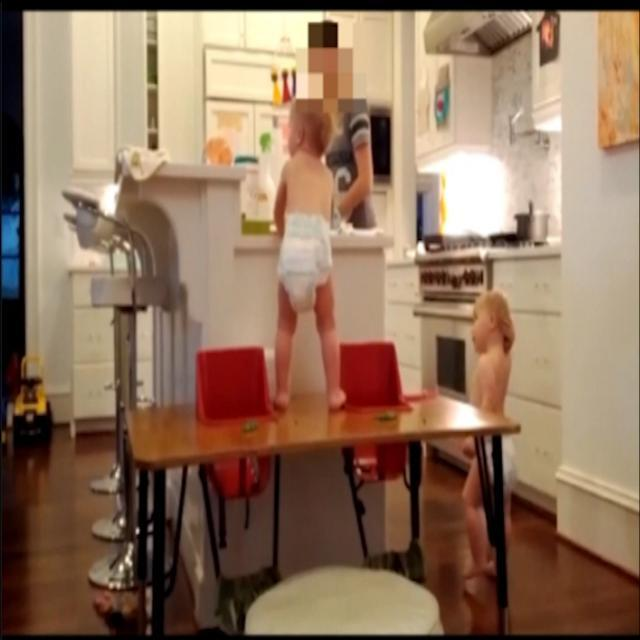child: (265, 99, 348, 410), (465, 281, 516, 589)
